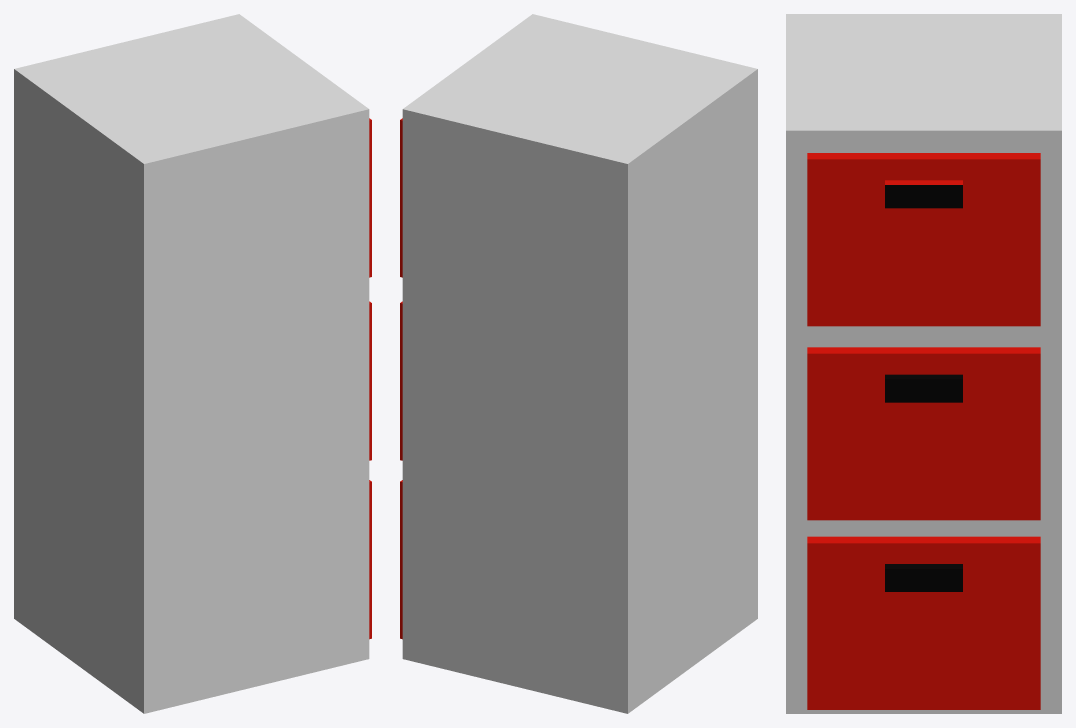
The model's file is doc_locker.fbx.
3 renders of one model, left to right at view 1: azimuth 30°, elevation 25°; view 2: azimuth 150°, elevation 25°; view 3: azimuth 270°, elevation 25°, orthographic. The views are drawn at different scales.
Parts seen in each view (by area): view 1: Cube; view 2: Cube; view 3: Cube.
Boxes of the visible parts, <box> form: Cube: <box>14,14,371,713</box>; Cube: <box>400,14,757,713</box>; Cube: <box>786,14,1061,713</box>.
Size of the model in its own units: 329 by 700 by 300.
